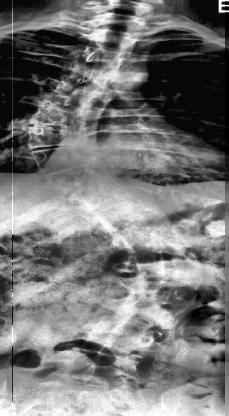Vertebrae: (63, 342, 146, 380), (88, 319, 160, 355), (109, 296, 183, 330), (126, 277, 198, 309), (44, 78, 110, 112), (65, 177, 131, 211), (125, 224, 191, 258), (132, 253, 202, 285), (112, 206, 168, 242), (96, 193, 155, 226), (27, 146, 93, 174), (25, 122, 85, 150), (42, 162, 100, 190), (30, 101, 86, 128), (68, 63, 121, 91), (92, 10, 148, 32), (80, 46, 133, 69), (88, 27, 140, 49)
